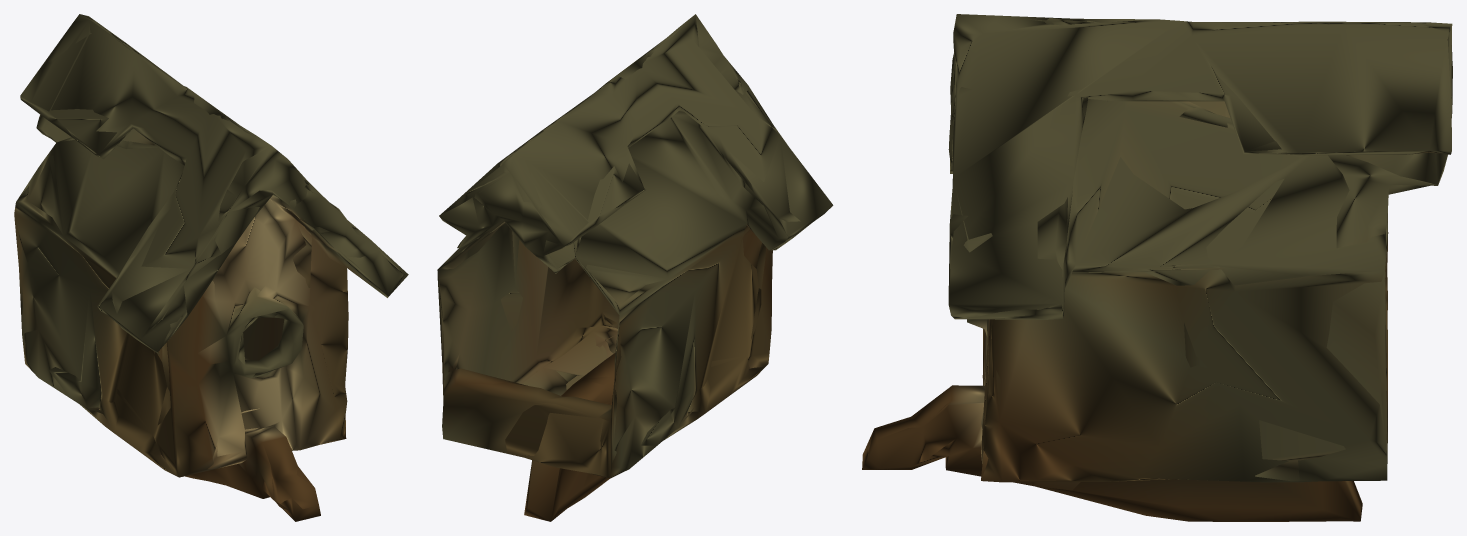
The model's file is gen3d-birdhouse-lod0.glb.
3 renders of one model, left to right at view 1: azimuth 30°, elevation 25°; view 2: azimuth 150°, elevation 25°; view 3: azimuth 270°, elevation 25°, orthographic. The views are drawn at different scales.
Parts seen in each view (by area): view 1: part_0; view 2: part_0; view 3: part_0.
Part boxes in pixels (bbox=[...]): part_0: bbox=[14, 14, 408, 521]; part_0: bbox=[437, 14, 833, 521]; part_0: bbox=[862, 14, 1452, 521].
Size of the model in its own units: 0.7222 by 0.995 by 1.07.
